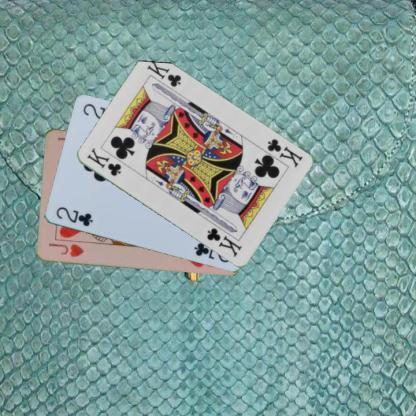2c: (53, 204, 94, 228)
Jh: (46, 240, 85, 258)
Kc: (264, 136, 303, 169), (84, 145, 122, 178)
